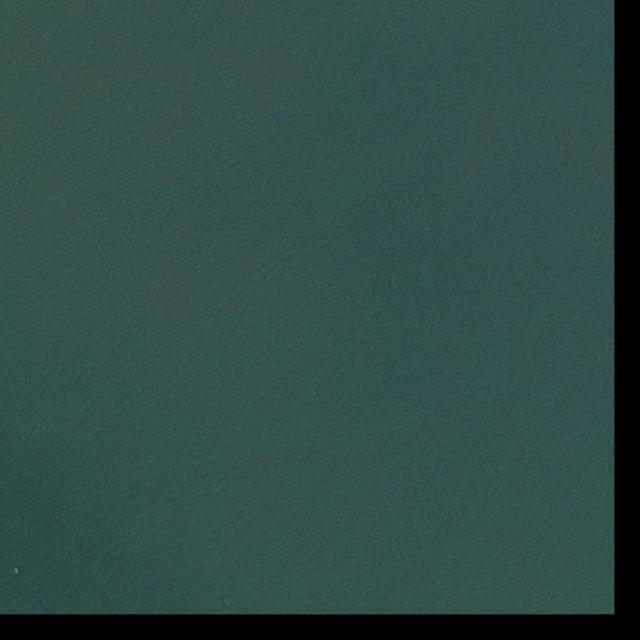ship: (14, 567, 20, 574)
